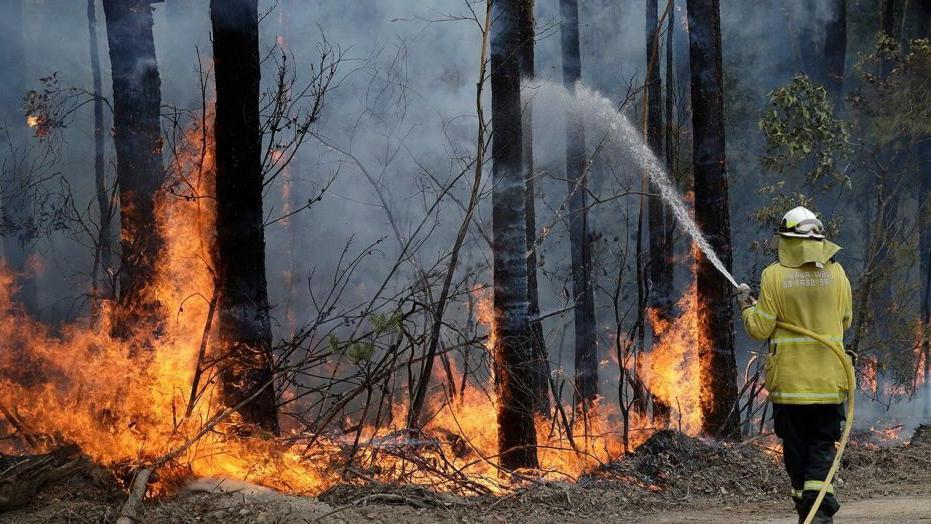Fire: (5, 125, 314, 495), (533, 184, 712, 484), (343, 284, 504, 492), (865, 318, 926, 399)
